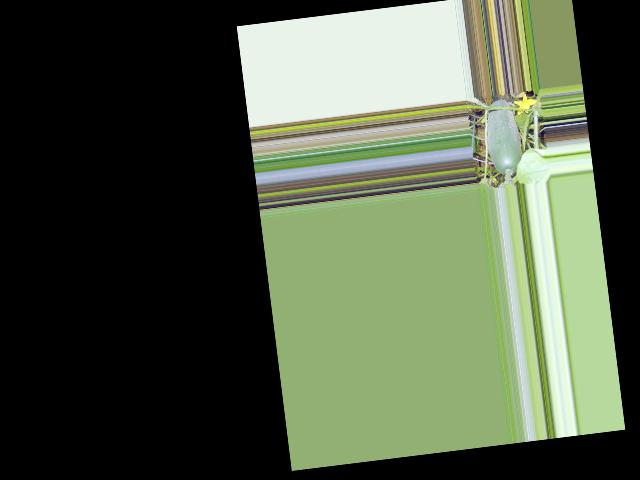cucumber: (482, 98, 524, 178)
